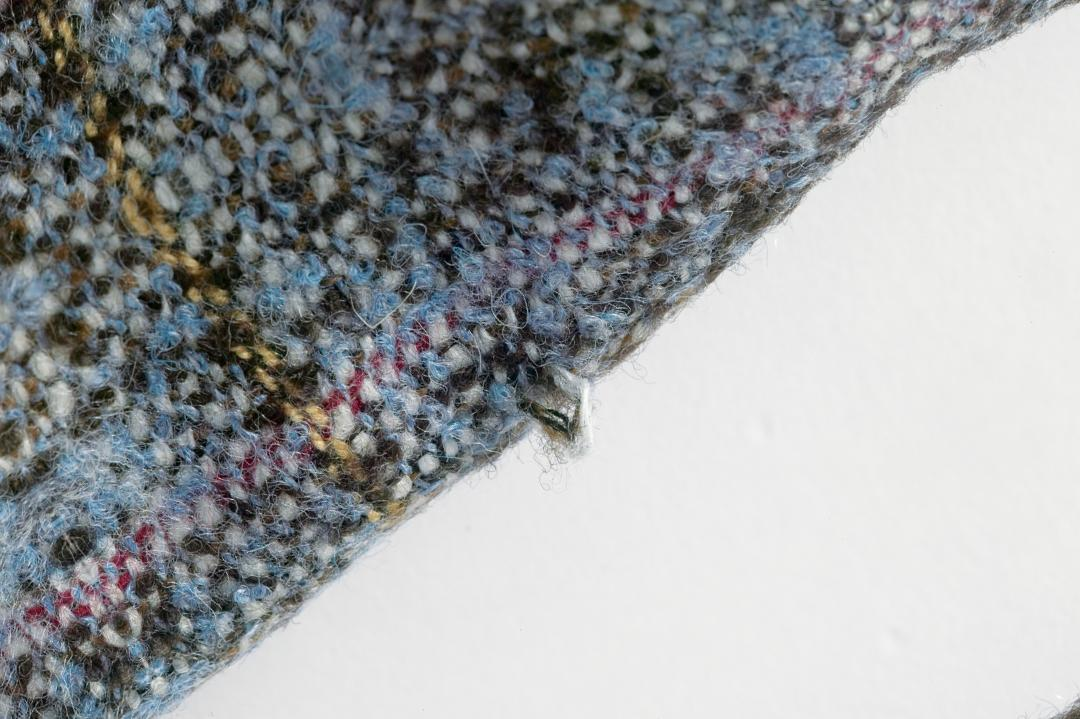snag: (507, 354, 611, 478)
